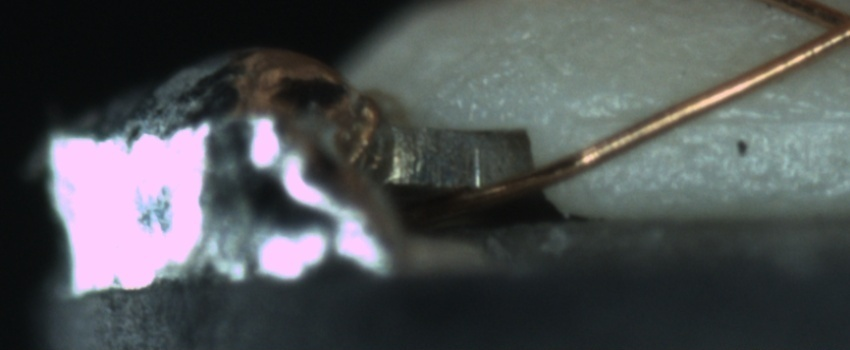CL: (795, 1, 850, 61)
DL: (566, 88, 849, 152)
TE: (338, 92, 386, 183)
